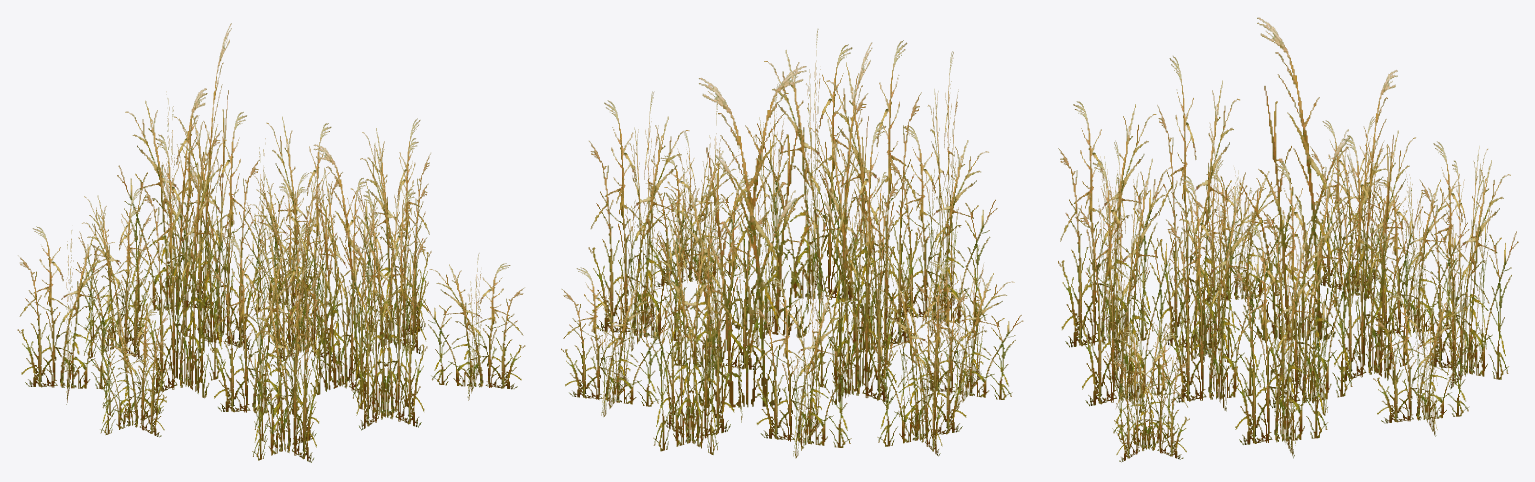
The model's file is grs_weed06_1.glb.
The picture shows the model from 3 angles, left to right: view 1: azimuth 30°, elevation 25°; view 2: azimuth 150°, elevation 25°; view 3: azimuth 270°, elevation 25°; orthographic projection. The views are drawn at different scales.
Parts seen in each view (by area): view 1: grs_weed06_1; view 2: grs_weed06_1; view 3: grs_weed06_1.
Part boxes in pixels (x1,y1,x2,y2): grs_weed06_1: (17, 23, 525, 462); grs_weed06_1: (561, 29, 1023, 458); grs_weed06_1: (1058, 17, 1518, 462).
Size of the model in its own units: 4.54 by 3.58 by 4.63.
Materials: 1 (1 with a texture image).
